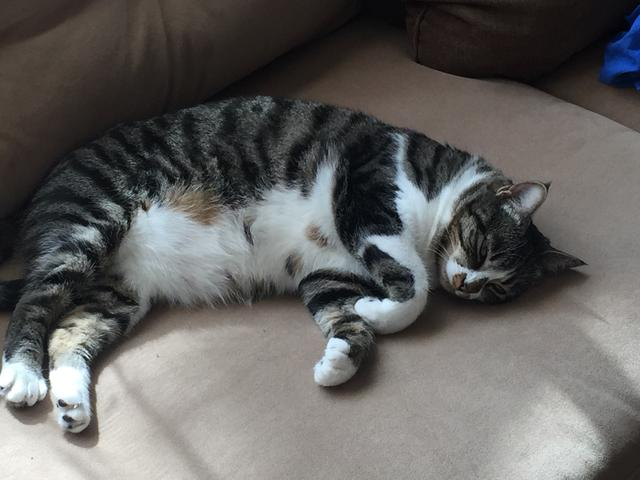playdoh: (1, 91, 588, 433)
